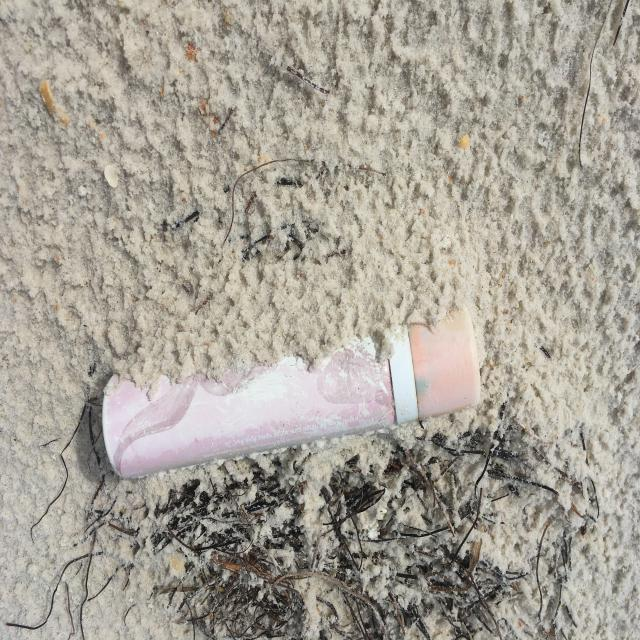litter: (101, 305, 478, 483)
